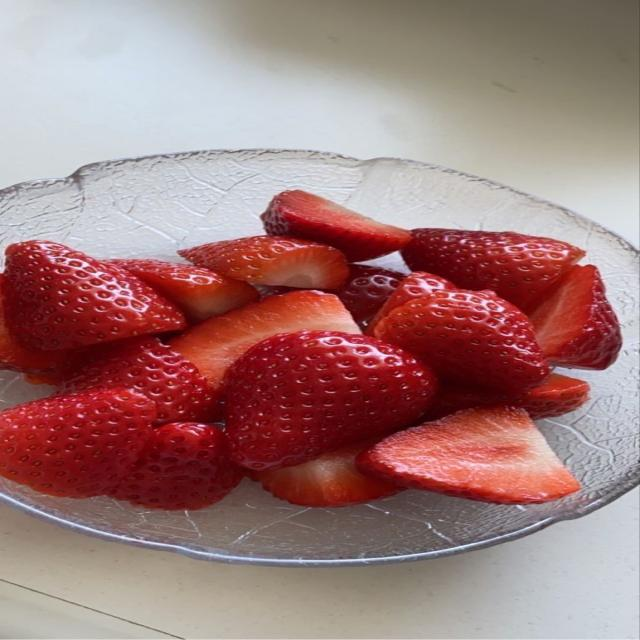strawberry sliced: (224, 331, 436, 470), (357, 406, 580, 503), (4, 240, 186, 350), (375, 290, 550, 393), (171, 291, 360, 386), (0, 389, 156, 498), (403, 229, 584, 310), (58, 337, 217, 423), (111, 423, 242, 509), (261, 190, 411, 261), (252, 443, 402, 507), (108, 259, 258, 322), (531, 266, 622, 369), (179, 236, 348, 289), (428, 374, 590, 419), (0, 275, 68, 374), (367, 272, 456, 334), (332, 264, 403, 323)
